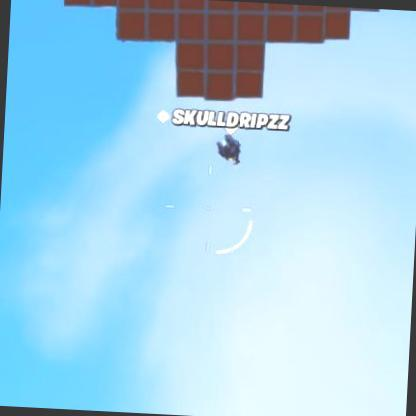person: (219, 134, 244, 166)
